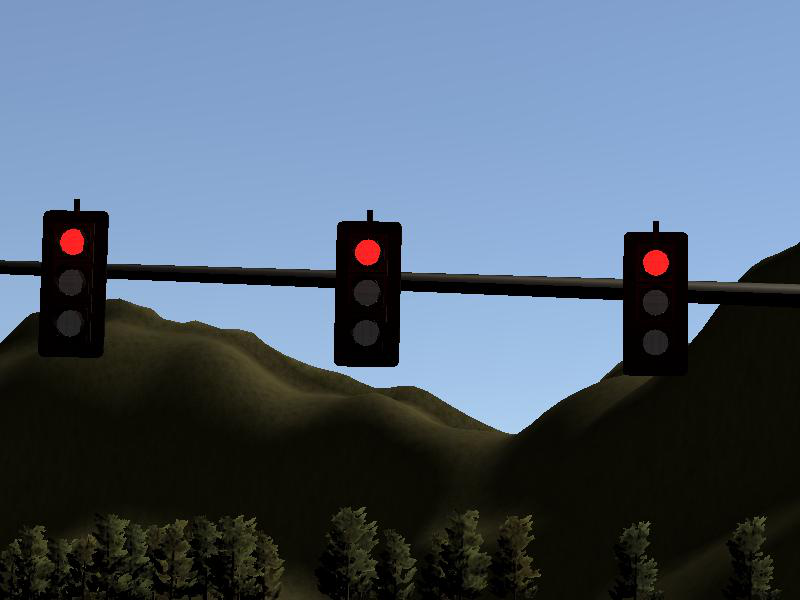red: (623, 231, 688, 375), (42, 209, 104, 359), (337, 222, 400, 367)
